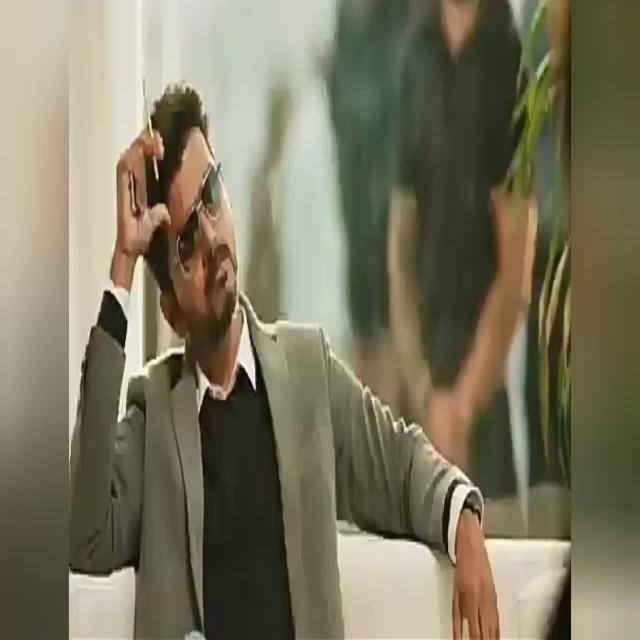smoking: (126, 60, 184, 246)
